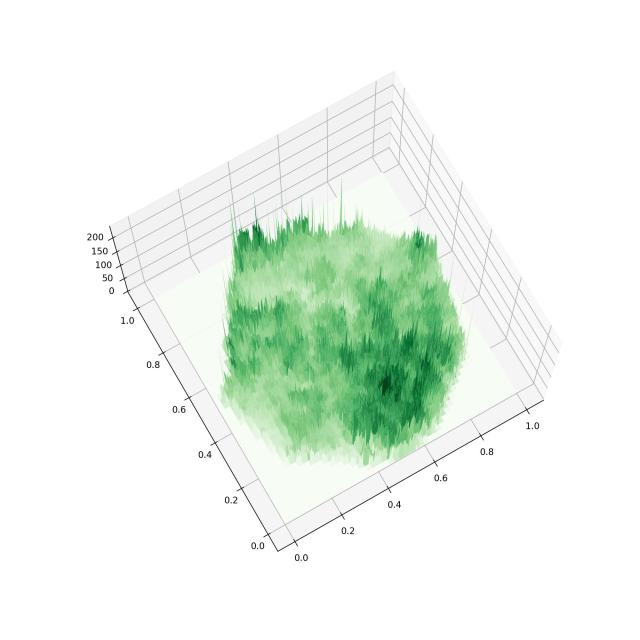fir: (61, 24, 589, 597)
